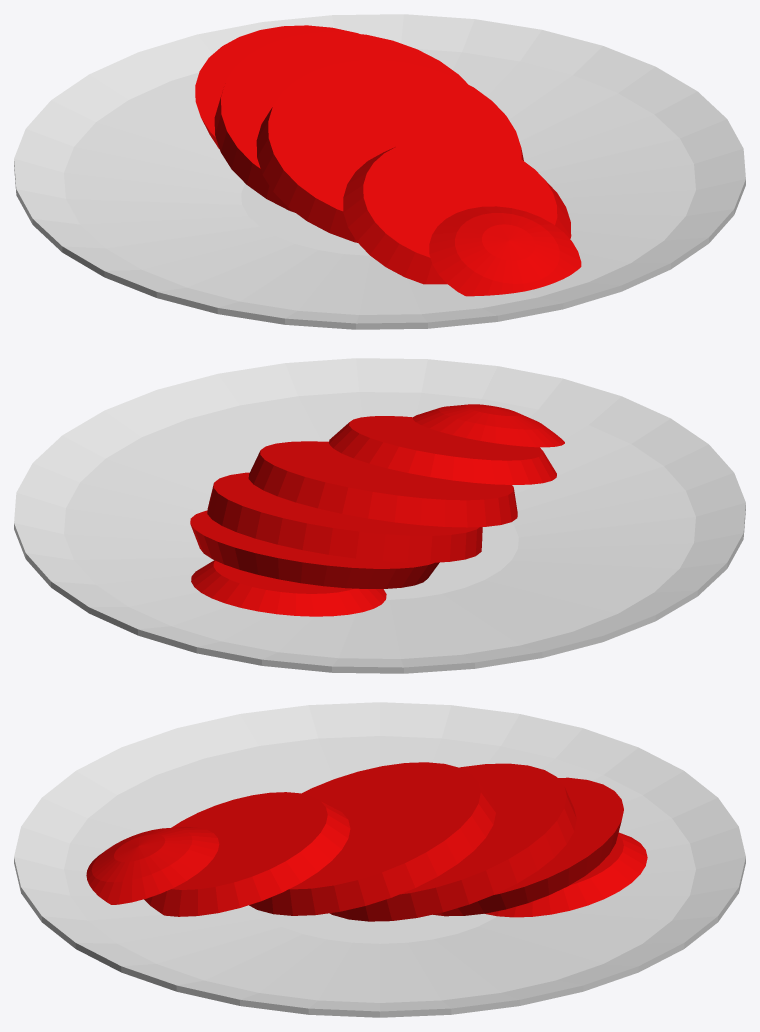
The model's file is slicedTomato.fbx.
3 renders of one model, top to bottom at view 1: azimuth 30°, elevation 25°; view 2: azimuth 150°, elevation 25°; view 3: azimuth 270°, elevation 25°, orthographic.
Visible parts, largest first — view 1: 실린더, 구체; view 2: 실린더, 구체; view 3: 실린더, 구체.
Boxes of the visible parts, x1,y1,x2,y2 form: 실린더: (14, 14, 745, 329); 구체: (195, 25, 581, 296); 실린더: (14, 358, 745, 673); 구체: (190, 404, 564, 616); 실린더: (14, 702, 745, 1017); 구체: (86, 762, 647, 921).
Size of the model in its own units: 527 by 80.28 by 527.
